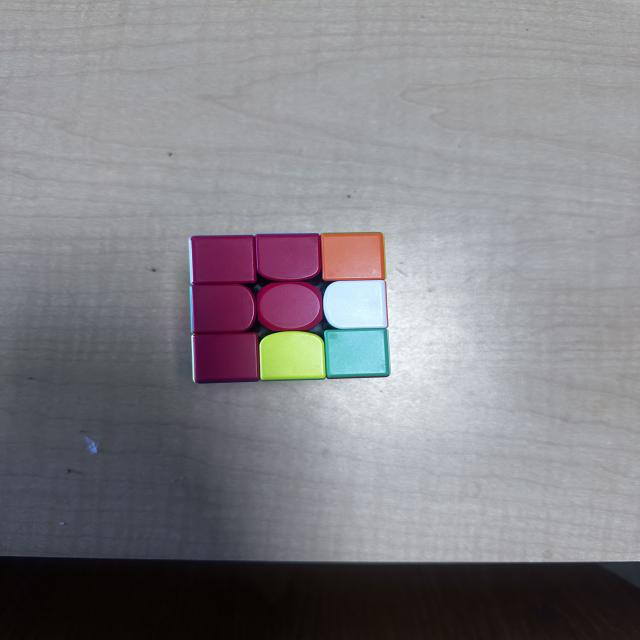sticker: (190, 331, 262, 385), (187, 235, 259, 288), (188, 283, 258, 336), (256, 281, 326, 333), (254, 233, 324, 284), (259, 332, 327, 382), (322, 280, 388, 331), (319, 232, 386, 282), (323, 329, 390, 379)
